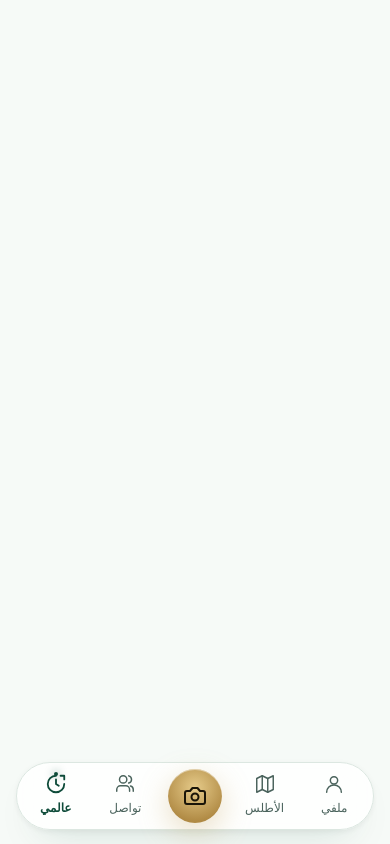
Test: AppNav › opens the live camera under the thumb, wherever the reader is
The width and height of the screenshot is (390, 844).
Click the button named "التقط".
click(195, 796)  # box [163,764,227,828]
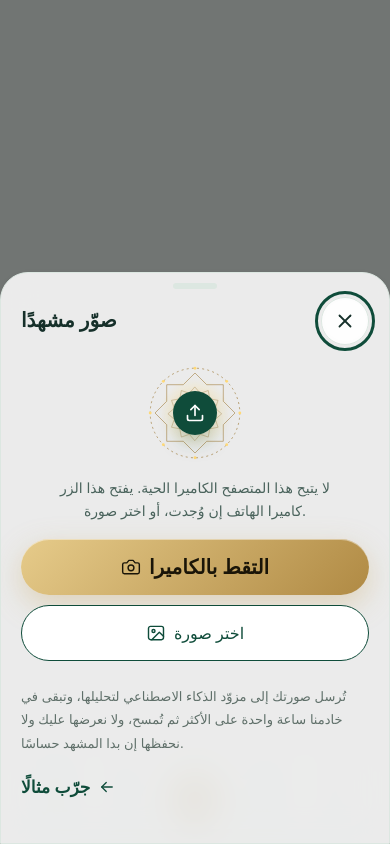
Expected: the dialog "صوّر مشهدًا" is shown
